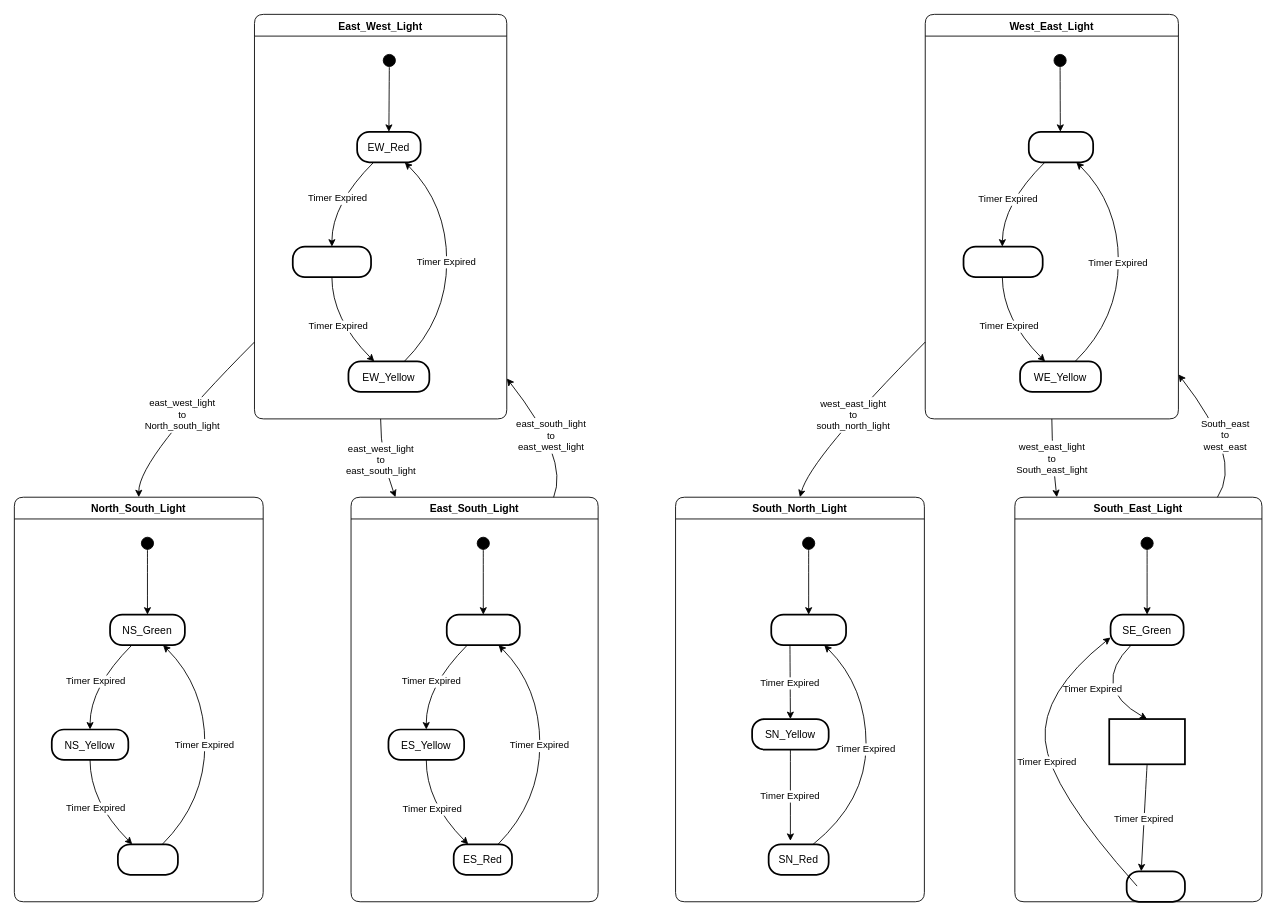
Some shapes in this 1276 by 916 pixel diagram are drawn without their labels. Here are the shapes that lost their labels. From the top down, the centre of each, then its label:
the point at 1060,146: WE_Red
the point at 331,261: EW_Green
the point at 1002,261: WE_Green
the point at 482,629: ES_Green
the point at 808,629: SN_Green
the point at 1146,741: SE_Yellow
the point at 147,859: NS_Red
the point at 1155,886: SE_Red
